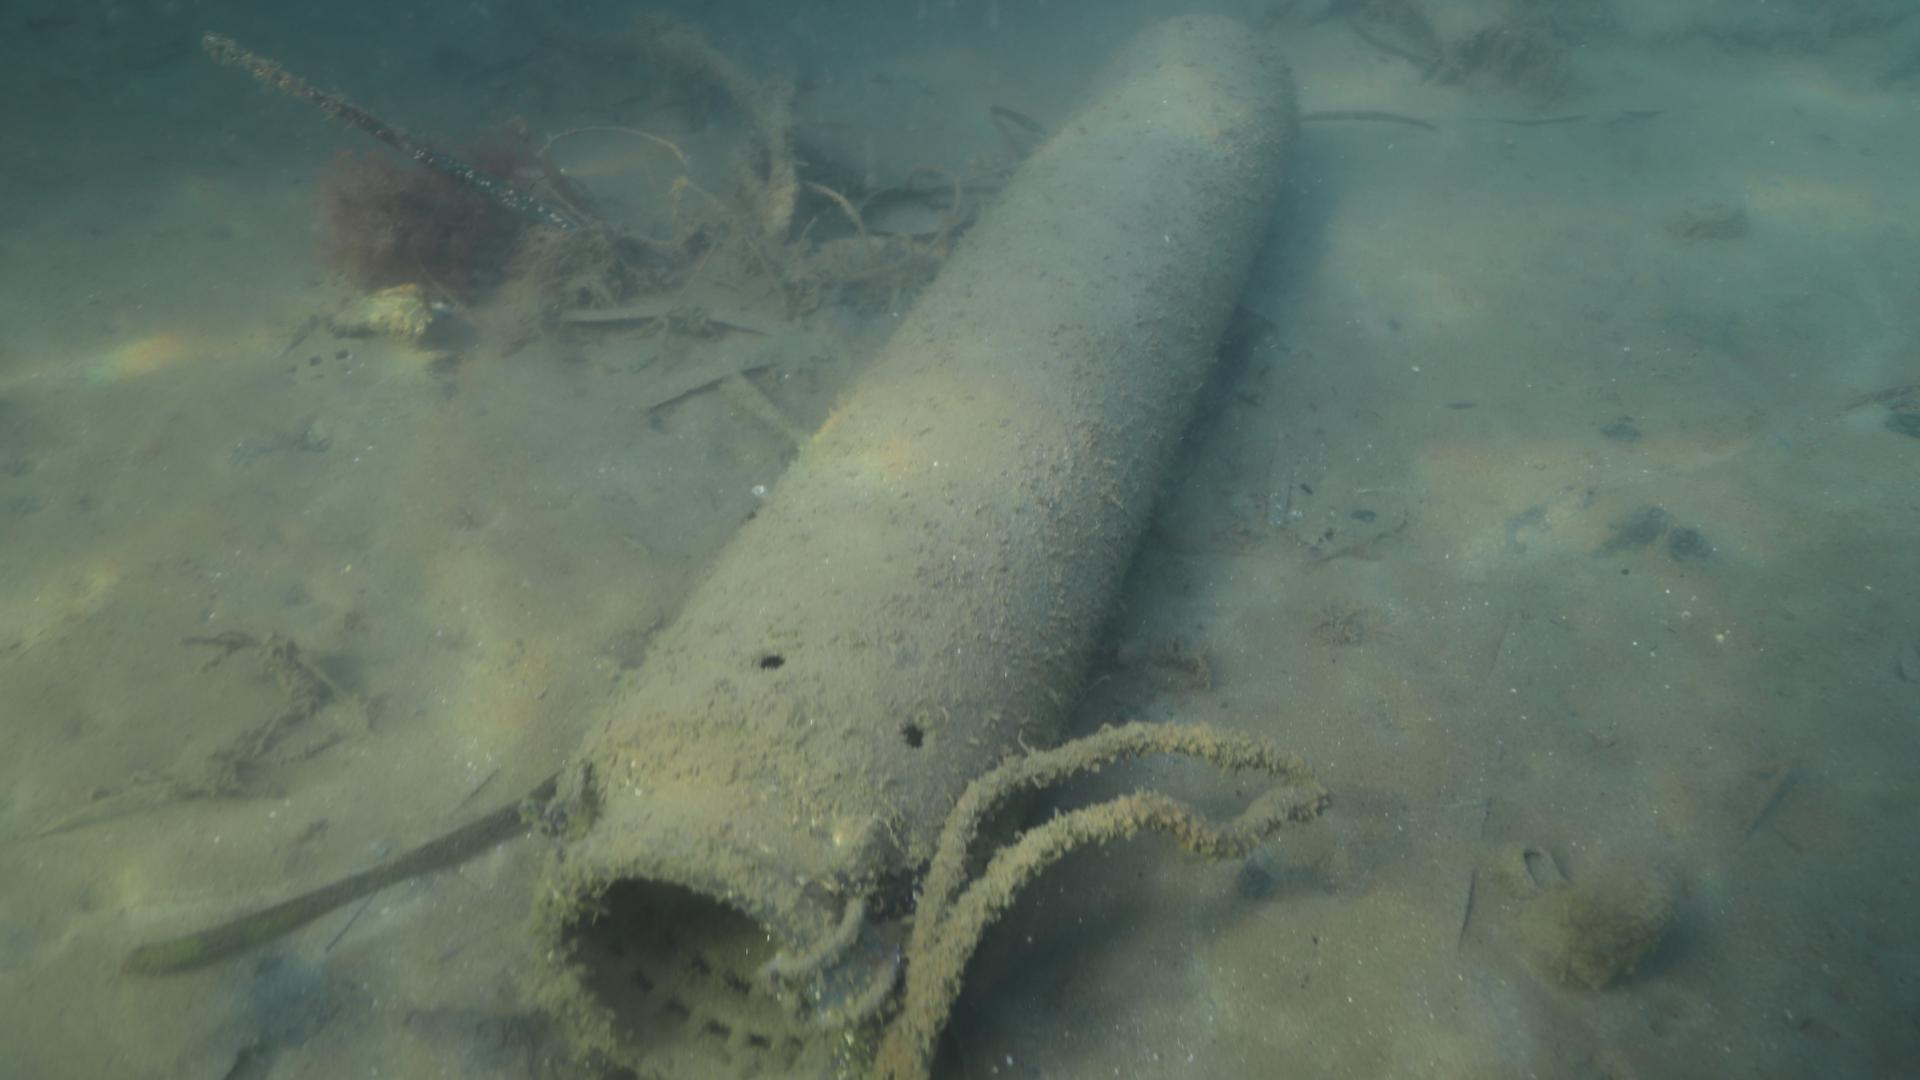eel fish trap: (512, 7, 1304, 1080)
rope: (872, 713, 1331, 1080)
